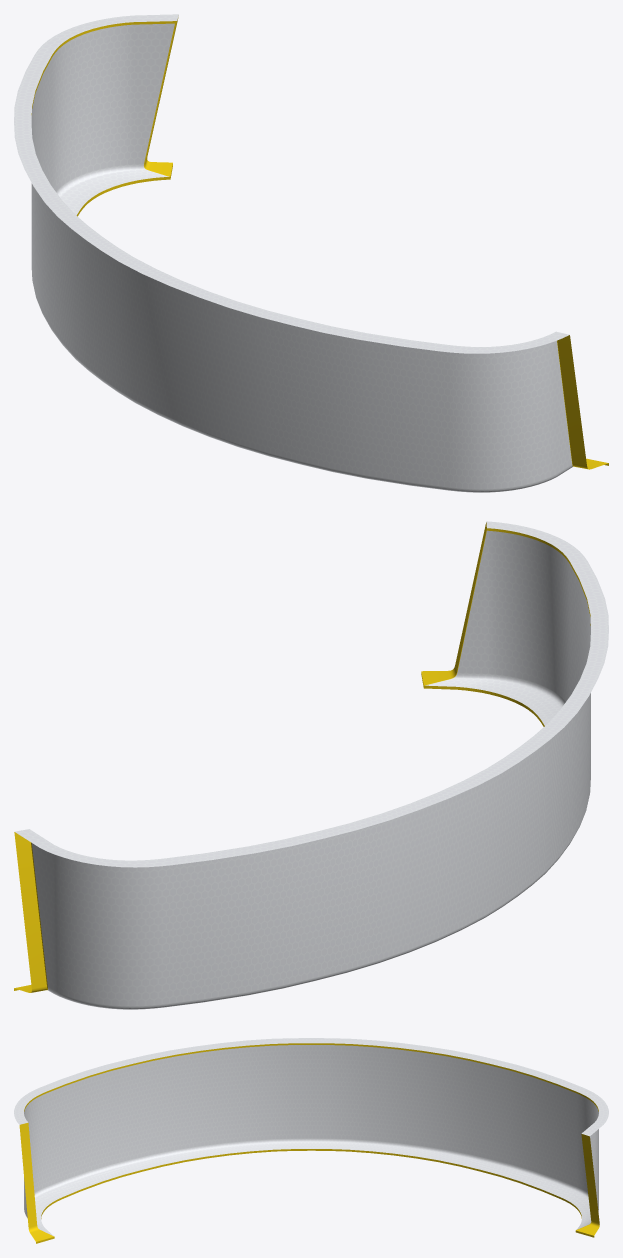
Rendered from CD_JZ_vr_Deco_screen01.FBX.
3 renders of one model, top to bottom at view 1: azimuth 30°, elevation 25°; view 2: azimuth 150°, elevation 25°; view 3: azimuth 270°, elevation 25°, orthographic. The views are drawn at different scales.
Parts seen in each view (by area): view 1: CD_JZ_vr_Deco_screen01; view 2: CD_JZ_vr_Deco_screen01; view 3: CD_JZ_vr_Deco_screen01.
Boxes of the visible parts, x1=… form: CD_JZ_vr_Deco_screen01: x1=14, y1=14, x2=608, y2=492; CD_JZ_vr_Deco_screen01: x1=14, y1=521, x2=608, y2=1009; CD_JZ_vr_Deco_screen01: x1=14, y1=1038, x2=608, y2=1243.
Bounding box in the file's own units: 1343 × 618 × 3257.
